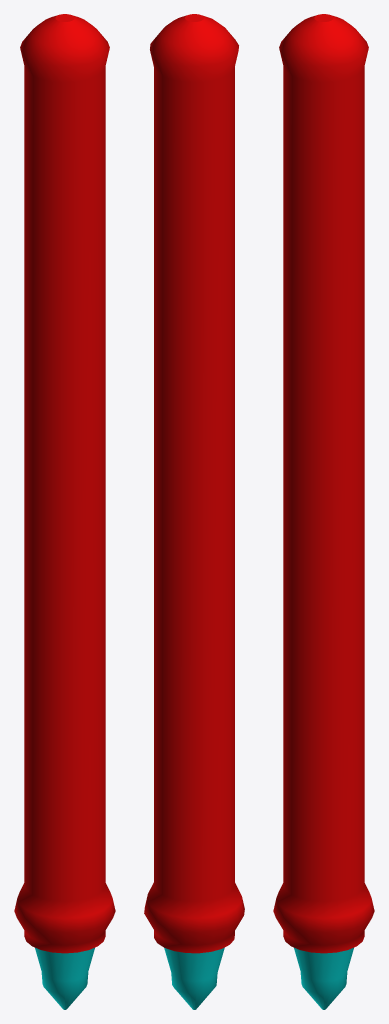
The model's file is Pen.fbx.
The picture shows the model from 3 angles, left to right: view 1: azimuth 90°, elevation 25°; view 2: azimuth 150°, elevation 25°; view 3: azimuth 270°, elevation 25°; orthographic projection.
Visible parts, largest first — view 1: pCylinder3, pCylinder4; view 2: pCylinder3, pCylinder4; view 3: pCylinder3, pCylinder4.
Part boxes in pixels (x1=…): pCylinder3: x1=14, y1=14, x2=115, y2=953; pCylinder4: x1=35, y1=947, x2=94, y2=1009; pCylinder3: x1=144, y1=14, x2=244, y2=953; pCylinder4: x1=164, y1=947, x2=224, y2=1009; pCylinder3: x1=273, y1=14, x2=374, y2=953; pCylinder4: x1=294, y1=947, x2=353, y2=1009.
Bounding box in the file's own units: 0.4895 × 5.28 × 0.4895.
